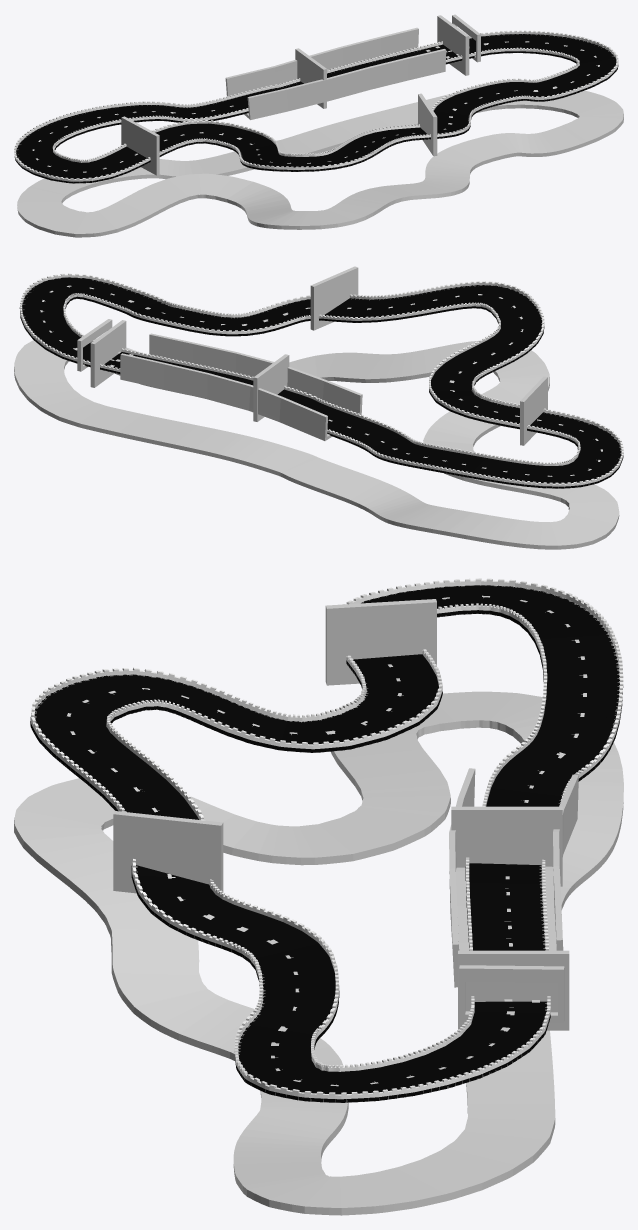
File: track.glb
3 renders of one model, top to bottom at view 1: azimuth 30°, elevation 25°; view 2: azimuth 150°, elevation 25°; view 3: azimuth 270°, elevation 25°, orthographic. The views are drawn at different scales.
Parts seen in each view (by area): view 1: PlaceSensorB, TrackMesh, Finish, TrackWaypointHalf, TrackWaypointStart, TrackWaypointQuarter, TrackWaypointFinish, Start; view 2: TrackMesh, PlaceSensorB, Finish, TrackWaypointQuarter, TrackWaypointStart, TrackWaypointHalf, TrackWaypointFinish, Start; view 3: TrackMesh, PlaceSensorB, TrackWaypointQuarter, TrackWaypointHalf, TrackWaypointFinish, Finish, TrackWaypointStart, Start.
Boxes of the visible parts, x1,y1,x2,y2 form: PlaceSensorB: [17, 90, 623, 237]; TrackMesh: [14, 30, 618, 183]; Finish: [225, 27, 446, 119]; TrackWaypointHalf: [121, 116, 159, 175]; TrackWaypointStart: [437, 15, 469, 75]; TrackWaypointQuarter: [418, 93, 437, 156]; TrackWaypointFinish: [295, 48, 326, 108]; Start: [452, 14, 480, 62]; TrackMesh: [19, 273, 623, 488]; PlaceSensorB: [14, 338, 619, 549]; Finish: [120, 333, 362, 440]; TrackWaypointQuarter: [310, 266, 358, 330]; TrackWaypointStart: [90, 320, 126, 387]; TrackWaypointHalf: [520, 376, 547, 445]; TrackWaypointFinish: [253, 354, 289, 421]; Start: [77, 319, 112, 371]; TrackMesh: [30, 578, 623, 1102]; PlaceSensorB: [14, 691, 623, 1215]; TrackWaypointQuarter: [113, 811, 223, 893]; TrackWaypointHalf: [325, 599, 436, 685]; TrackWaypointFinish: [451, 806, 562, 886]; Finish: [449, 768, 578, 987]; TrackWaypointStart: [458, 950, 569, 1030]; Start: [459, 965, 564, 1022].
Bounding box in the file's own units: 319 × 55.7 × 154.
Materials: 1 (1 with a texture image).
